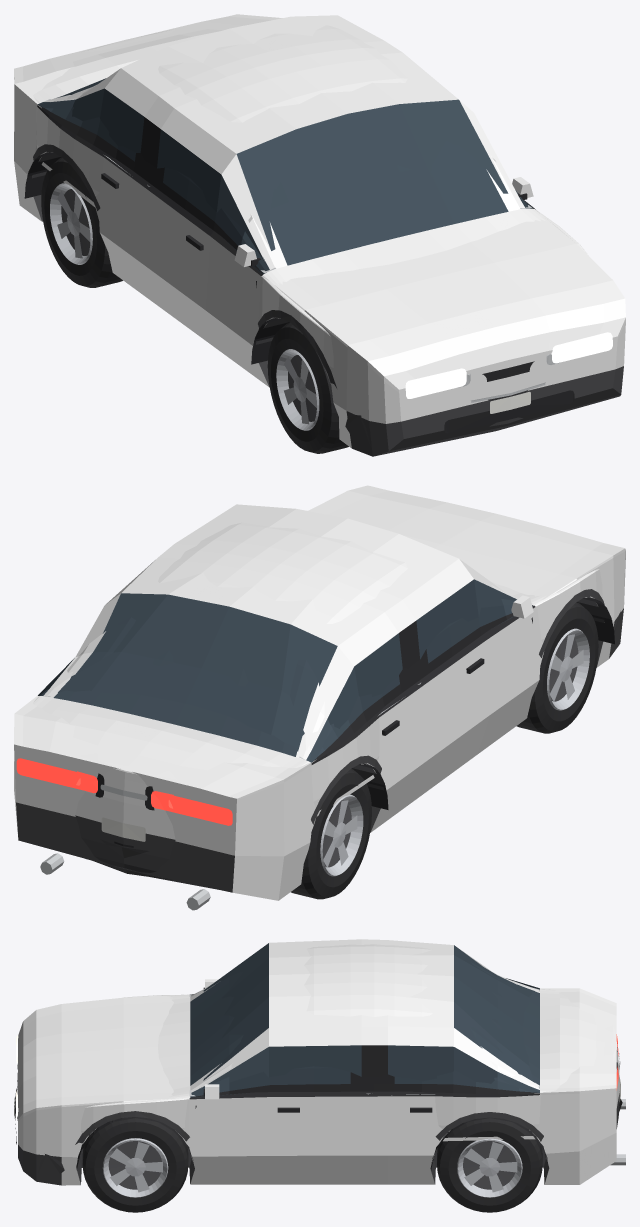
File: barao.glb
The picture shows the model from 3 angles, top to bottom: view 1: azimuth 30°, elevation 25°; view 2: azimuth 150°, elevation 25°; view 3: azimuth 270°, elevation 25°; orthographic projection. The views are drawn at different scales.
Visible parts, largest first — view 1: body.001, body, glass.001, glass, wheel_fr, details, wheel_rr, lamp_head.001, wheel_wells.001; view 2: body.001, body, glass.001, glass, wheel_fr, wheel_rr, details, lamp_tail.001, wheel_wells.001, lamp_tail; view 3: body.001, body, glass.001, glass, wheel_fl, wheel_rl, details, wheel_wells, wheel_wells.001.
Part boxes in pixels (left/top/right/bottom): body.001: left=14, top=14, right=625, bottom=456; body: left=33, top=25, right=587, bottom=373; glass.001: left=38, top=78, right=533, bottom=274; glass: left=40, top=82, right=531, bottom=273; wheel_fr: left=267, top=322, right=348, bottom=453; details: left=33, top=99, right=574, bottom=444; wheel_rr: left=41, top=157, right=122, bottom=287; lamp_head.001: left=405, top=332, right=612, bottom=398; wheel_wells.001: left=24, top=152, right=289, bottom=364; body.001: left=14, top=485, right=625, bottom=900; body: left=33, top=522, right=602, bottom=879; glass.001: left=38, top=579, right=533, bottom=762; glass: left=39, top=598, right=532, bottom=761; wheel_fr: left=516, top=602, right=598, bottom=733; wheel_rr: left=291, top=768, right=371, bottom=899; details: left=40, top=589, right=620, bottom=910; lamp_tail.001: left=16, top=758, right=232, bottom=825; wheel_wells.001: left=351, top=597, right=614, bottom=809; lamp_tail: left=76, top=771, right=173, bottom=810; body.001: left=18, top=939, right=616, bottom=1185; body: left=81, top=944, right=619, bottom=1167; glass.001: left=191, top=943, right=539, bottom=1097; glass: left=190, top=962, right=539, bottom=1097; wheel_fl: left=82, top=1118, right=188, bottom=1212; wheel_rl: left=437, top=1118, right=542, bottom=1212; details: left=14, top=979, right=625, bottom=1174; wheel_wells: left=76, top=1117, right=548, bottom=1170; wheel_wells.001: left=76, top=1118, right=548, bottom=1169.
Bounding box in the file's own units: 1.98 × 1.61 × 4.63.
